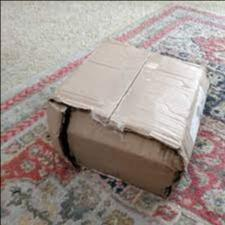damage_box: (44, 38, 212, 198)
